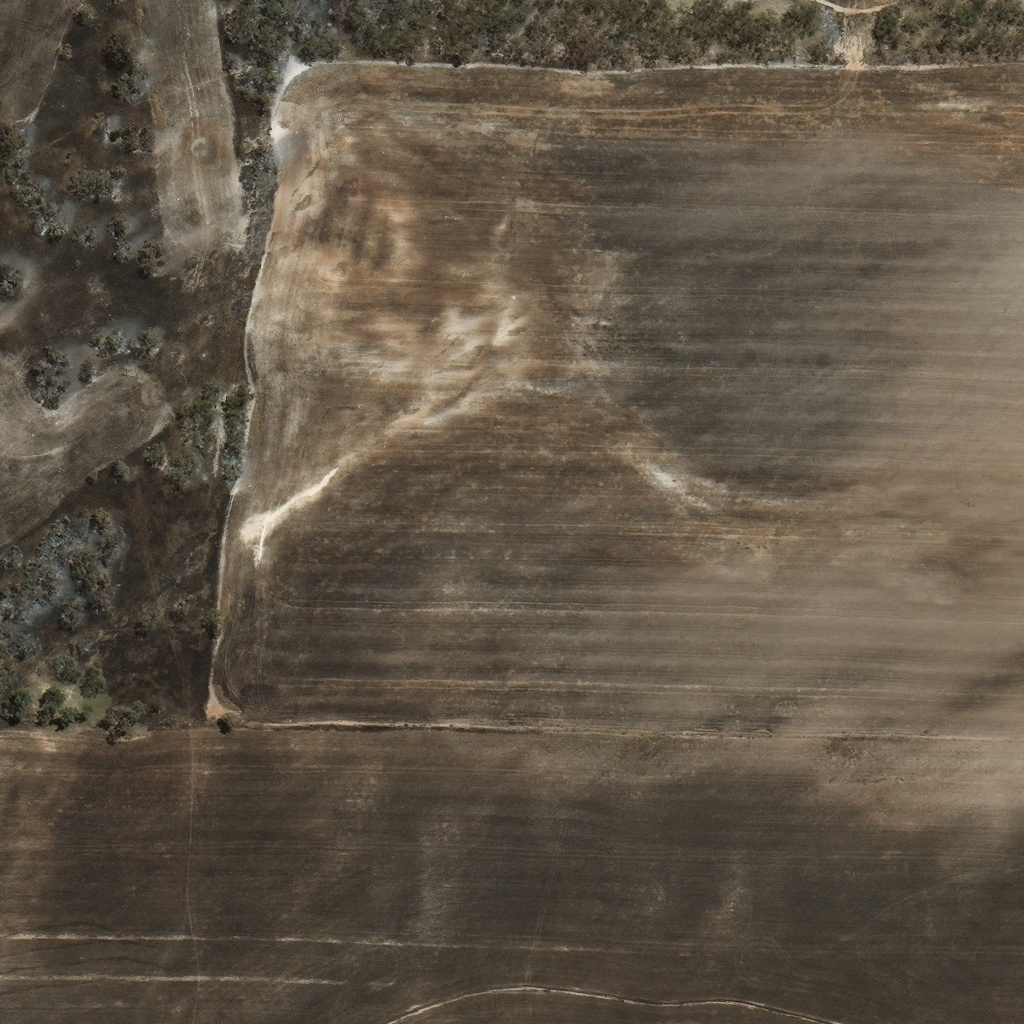3 destroyed: (174, 1002, 185, 1013)
